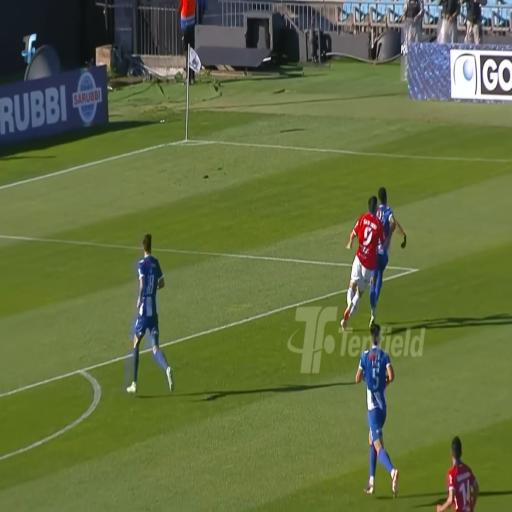Player: (130, 228, 160, 399), (366, 324, 394, 489), (346, 201, 378, 330), (373, 178, 394, 327), (443, 434, 476, 512)
